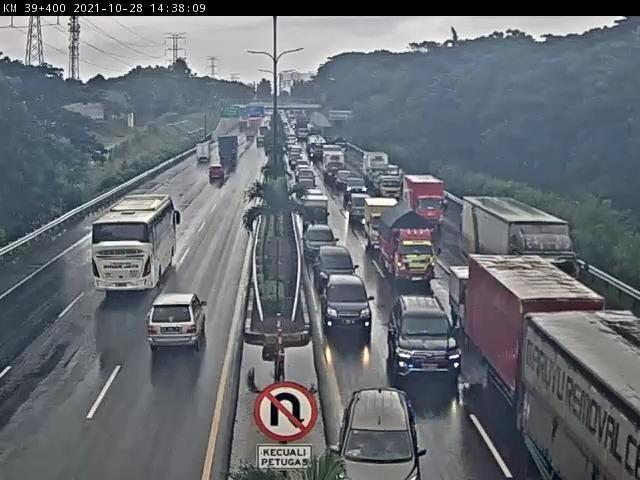Bus: (82, 187, 184, 305)
